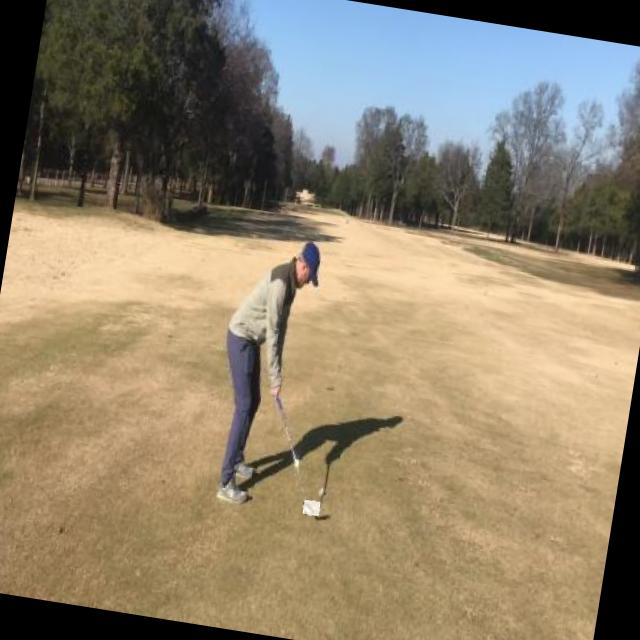club head: (302, 499, 320, 516)
